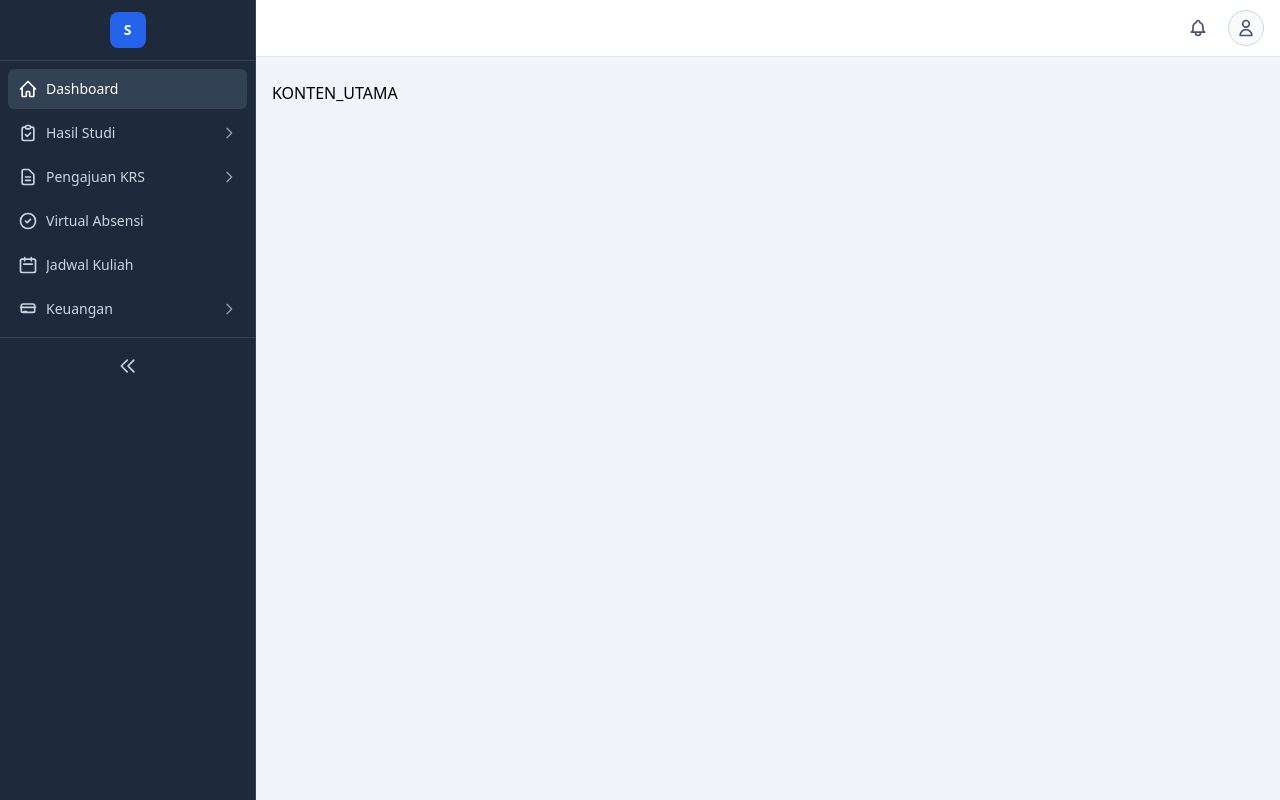
Test: AppLayout (T1.11d polish + keluhan #5 sidebar ikon & #26 dropdown avatar) › keluhan #26 — header hanya ikon orang; klik → dropdown (nama, role, Ganti Password, Keluar)
The width and height of the screenshot is (1280, 800).
Expected: the text "Budi" is not shown
Click the button named "Menu pengguna" at x=1246, y=28, box [1228, 10, 1264, 46]
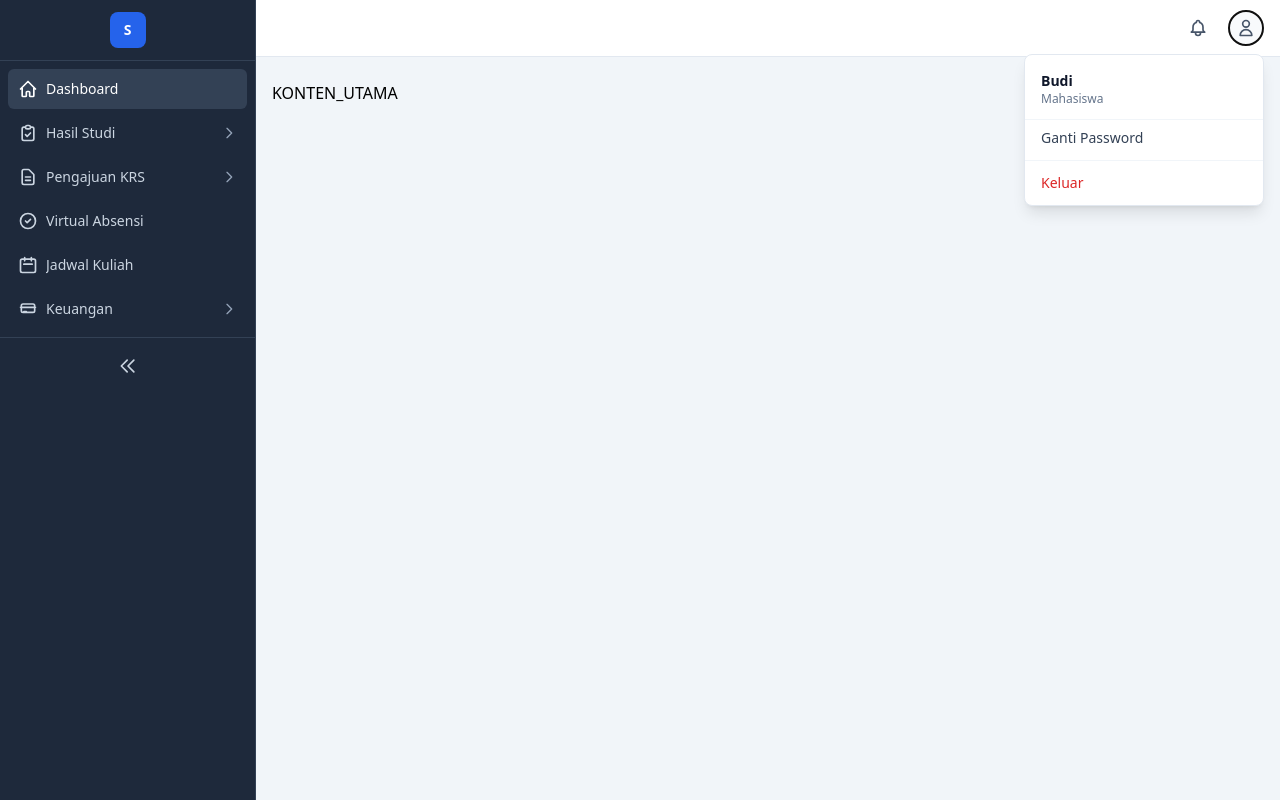
Now the menu is shown, box [1024, 54, 1264, 206]
Now the text "Budi" is shown, box [1041, 71, 1073, 90]
Now the text "Mahasiswa" is shown, box [1041, 90, 1104, 107]
